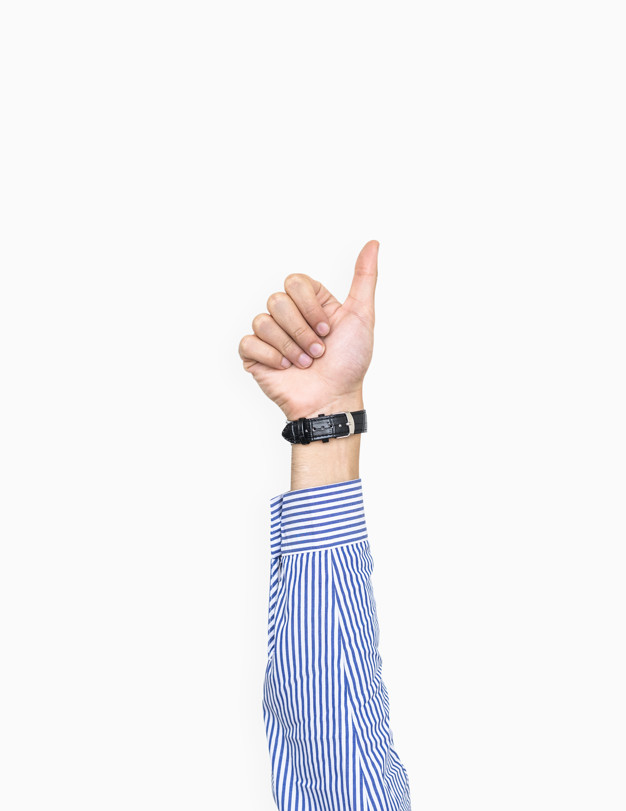thumbsup: (239, 239, 379, 374)
